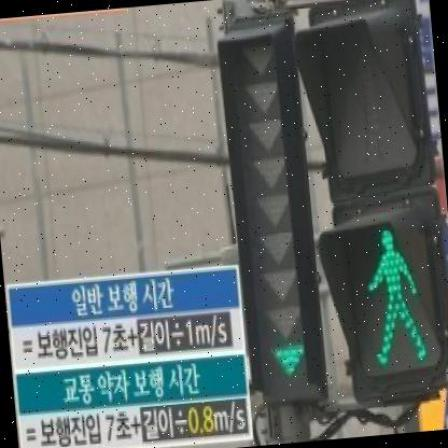silver: (336, 231, 444, 368)
